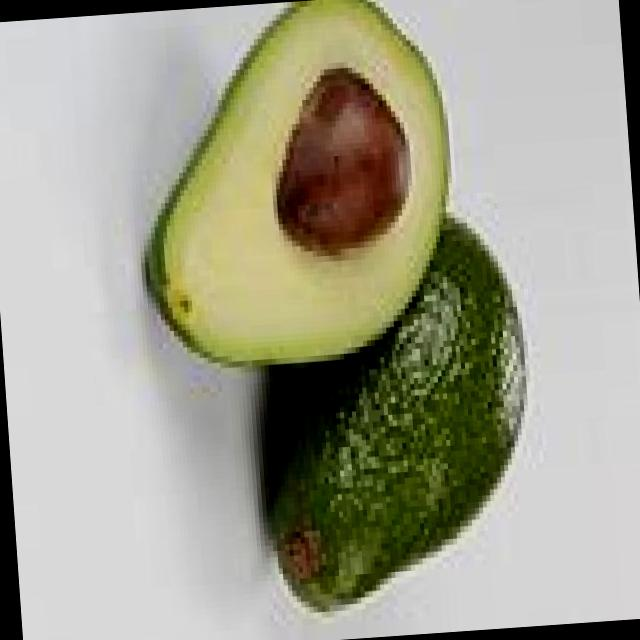avocado: (236, 210, 544, 622), (124, 0, 458, 375)
